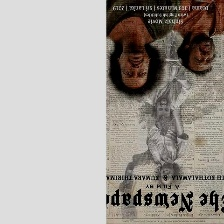news_paper: (106, 0, 223, 224)
